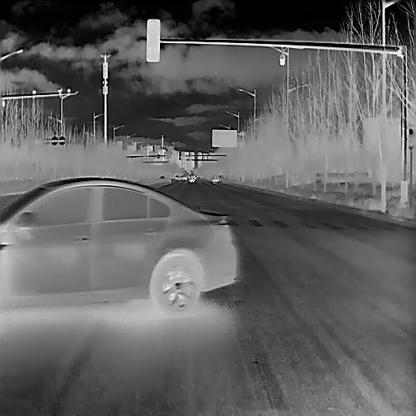car: (0, 168, 237, 313), (174, 174, 179, 179), (182, 175, 187, 180)
